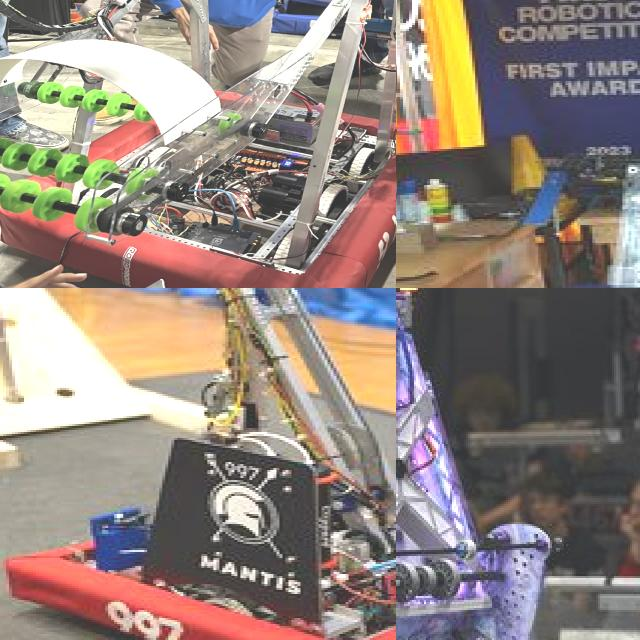FRC-Robots: (15, 288, 396, 640), (0, 0, 396, 288), (396, 290, 614, 640), (409, 31, 640, 288)
